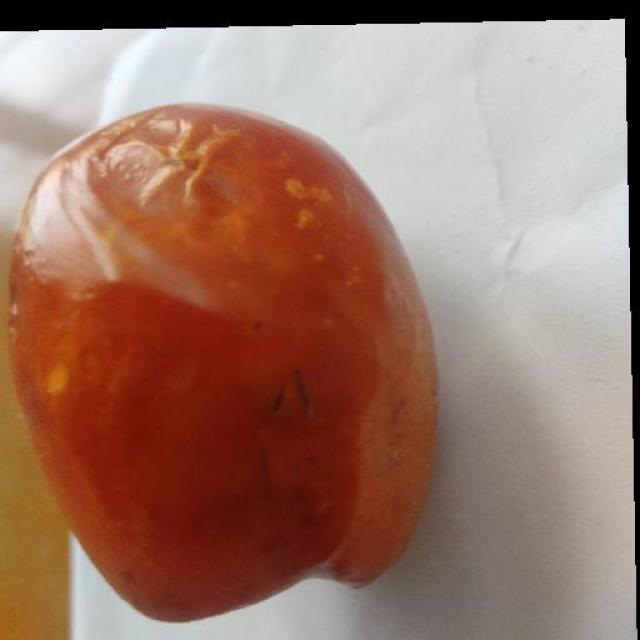Stale_tomato: (7, 133, 455, 590)
